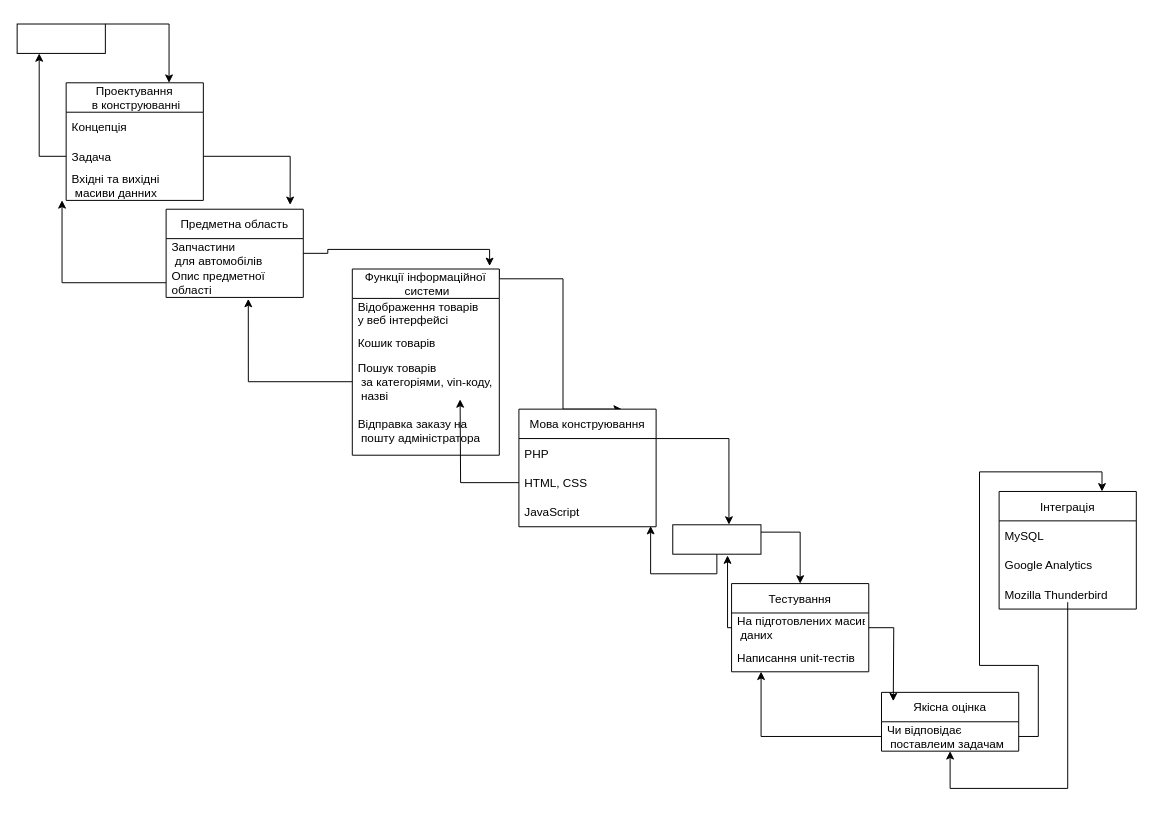
Image size: 1153x813. Some labels were removed from this diagram. The centre of each missing label's shape, as x and y in pixels:
Анализ: (x=60, y=38)
Кодування: (x=716, y=539)
